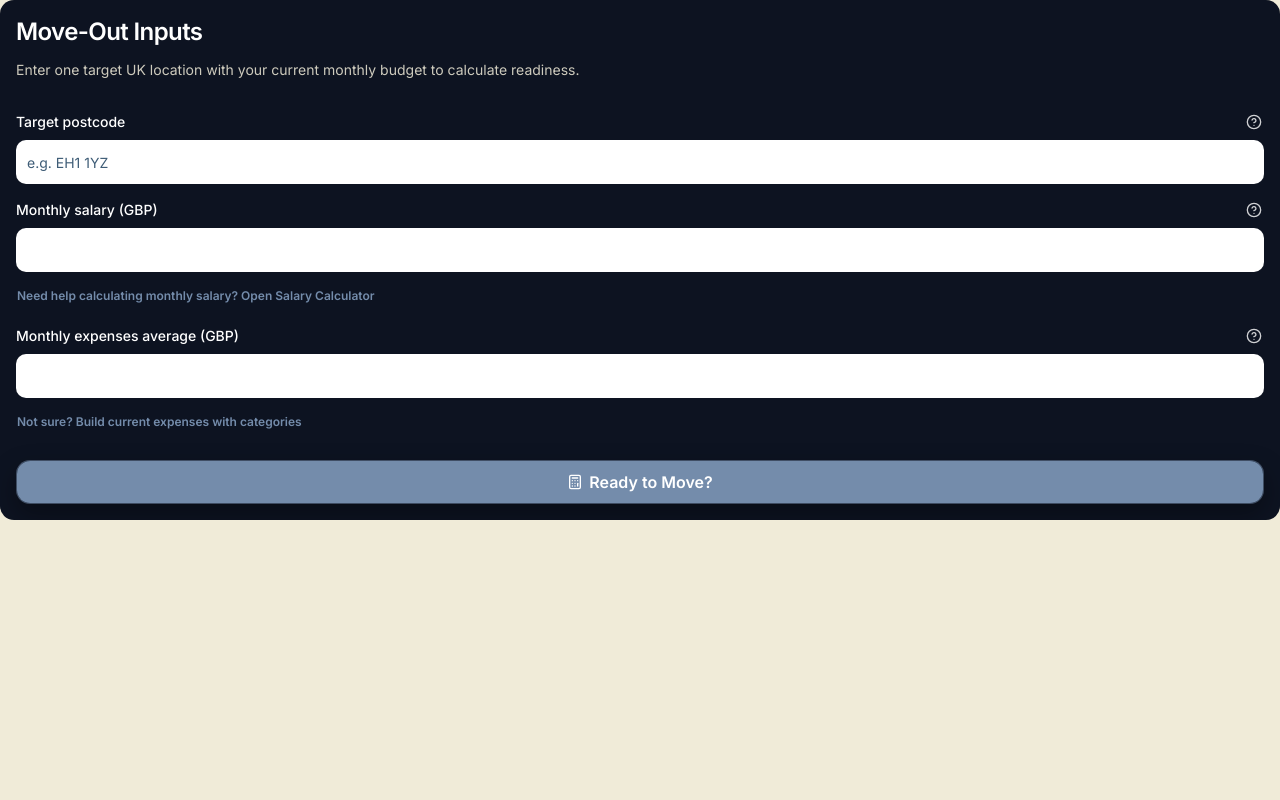
MoveOutReadinessInputCard › supports add, remove, and apply actions in expense dialog
Click the button "Not sure? Build current expenses with categories": coordinates (159, 422) [16, 408, 1264, 436]
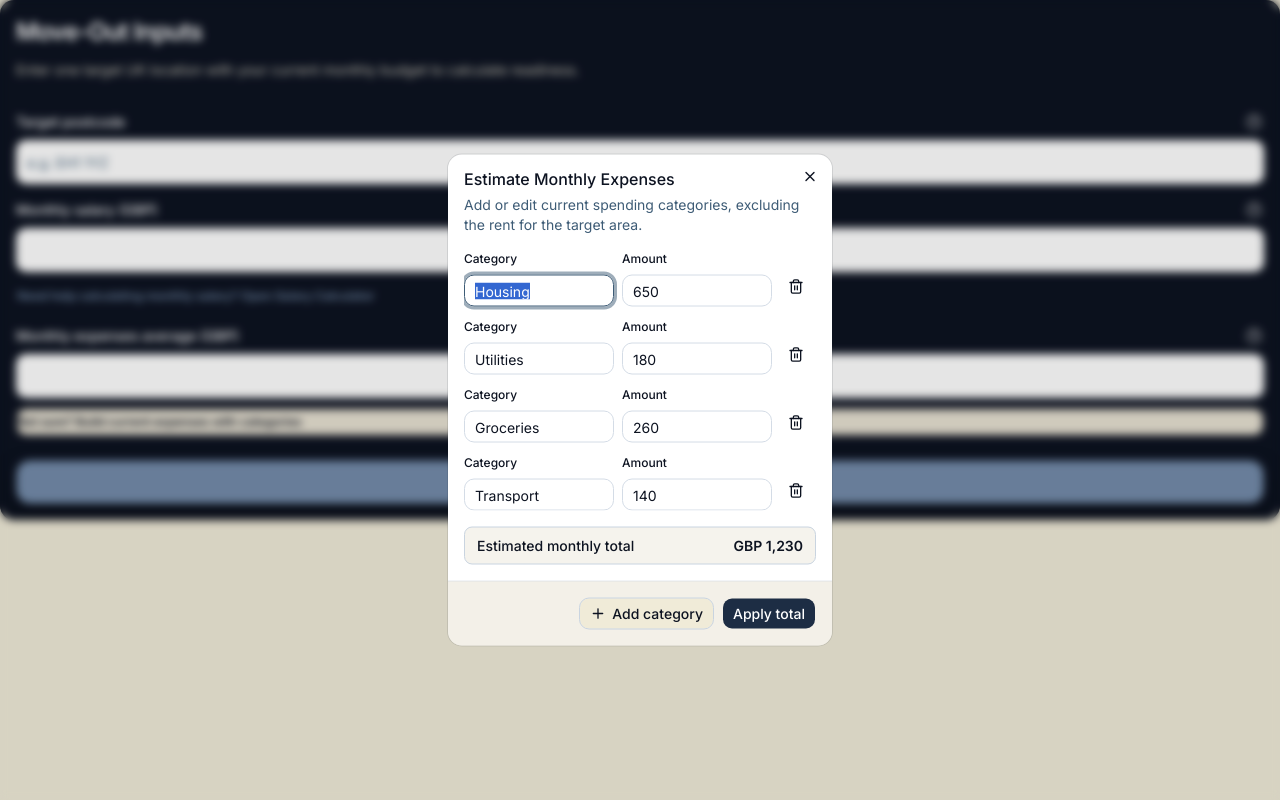
Expected: the dialog "Estimate Monthly Expenses" is shown, [448, 154, 832, 646]
Expected: the number of buttons named "Remove expense row" is 4, [780, 270, 812, 302]; [780, 338, 812, 370]; [780, 406, 812, 438]; [780, 474, 812, 506]
Click the button "Add category": coordinates (647, 614) [579, 598, 714, 630]
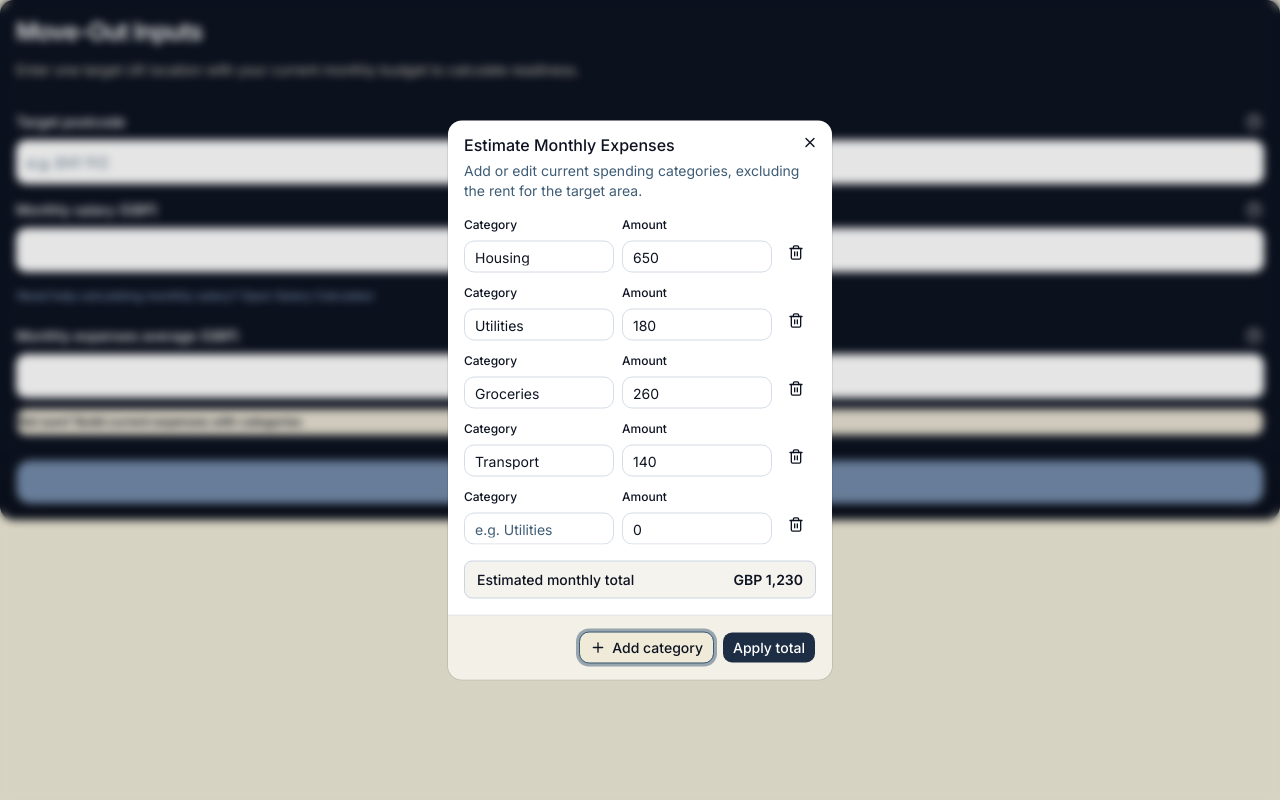
Expected: the number of buttons named "Remove expense row" is 5
Click the 1st button named "Remove expense row": coordinates (796, 252) [780, 236, 812, 268]
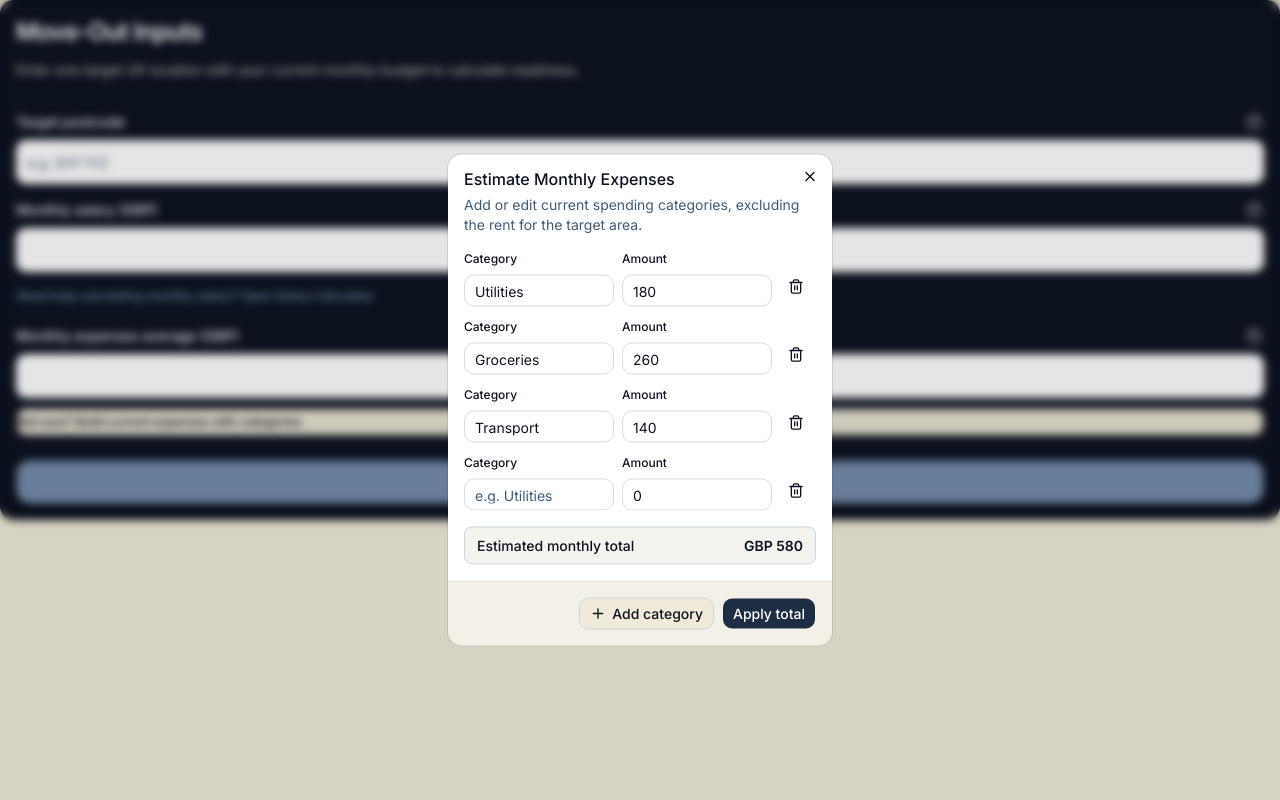
Expected: the number of buttons named "Remove expense row" is 4, [780, 270, 812, 302]; [780, 338, 812, 370]; [780, 406, 812, 438]; [780, 474, 812, 506]
Click the button "Apply total": coordinates (769, 614) [722, 598, 816, 630]
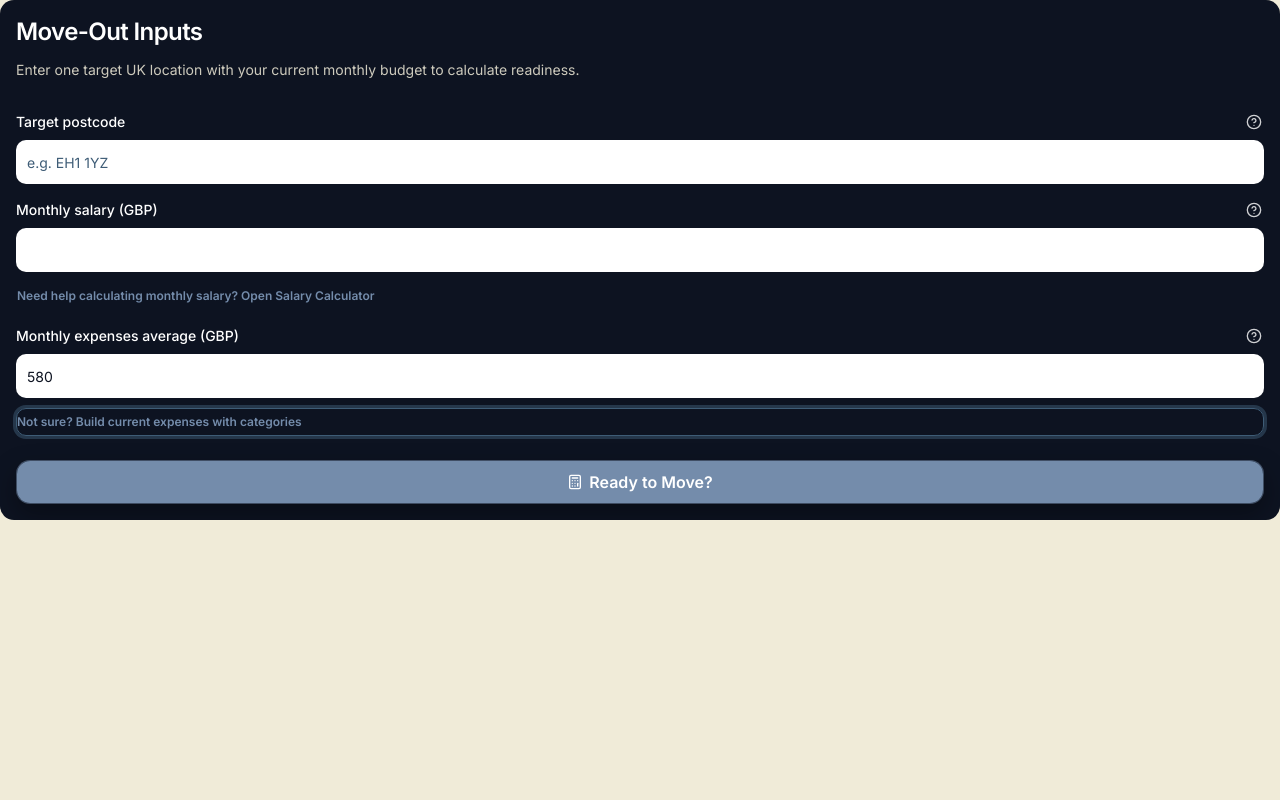
Expected: the number field with id "monthly-expenses" holds "580", [16, 354, 1264, 398]
